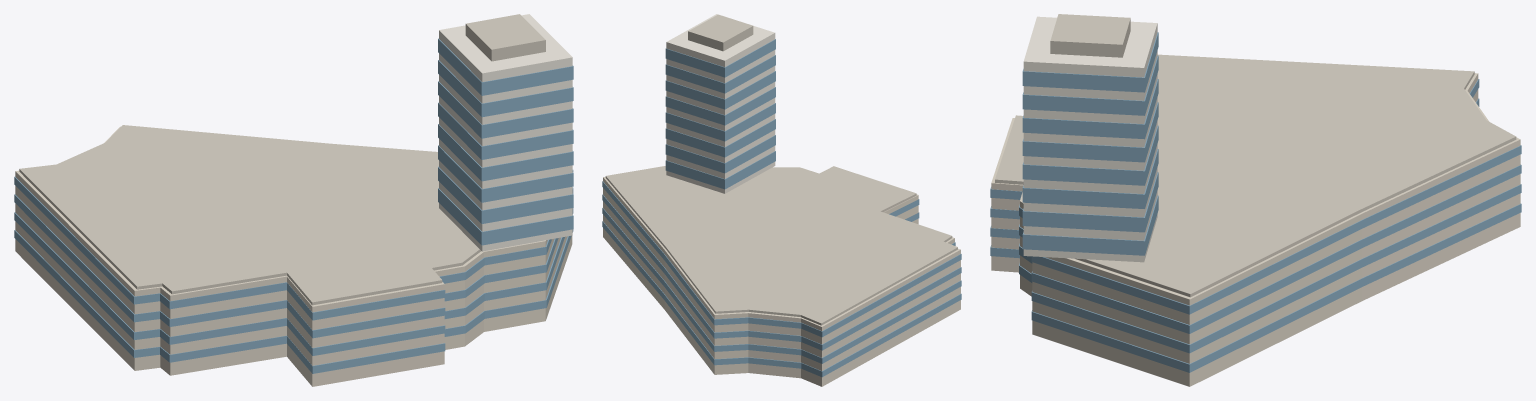
Rendered from myanmar_plaza.glb.
The picture shows the model from 3 angles, left to right: view 1: azimuth 30°, elevation 25°; view 2: azimuth 150°, elevation 25°; view 3: azimuth 270°, elevation 25°; orthographic projection. The views are drawn at different scales.
Visible parts, largest first — view 1: part; view 2: part; view 3: part.
Part boxes in pixels (x1,y1,x2,y2): part: (14,14,573,386); part: (602,14,961,386); part: (990,14,1521,386).
Bounding box in the file's own units: 162 × 91.99 × 149.
